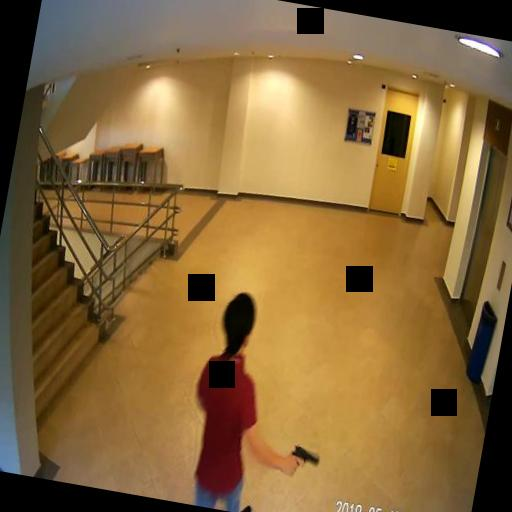Handgun: (286, 442, 320, 478)
